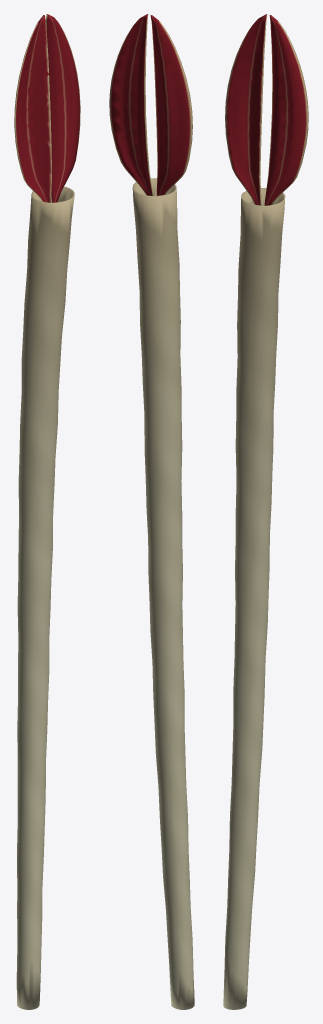
File: NEW689_Tubeworm_LOD2.glb
3 views of the same model, side by side, from view 1: azimuth 30°, elevation 25°; view 2: azimuth 150°, elevation 25°; view 3: azimuth 330°, elevation 25° (orthographic).
Parts seen in each view (by area): view 1: Protective_tube, Branchial_lamella_left, Branchial_lamella_right; view 2: Protective_tube, Branchial_lamella_right, Branchial_lamella_left; view 3: Protective_tube, Branchial_lamella_left, Branchial_lamella_right.
Boxes of the visible parts, x1=… form: Protective_tube: x1=16, y1=186, x2=74, y2=1009; Branchial_lamella_left: x1=14, y1=15, x2=51, y2=202; Branchial_lamella_right: x1=45, y1=14, x2=80, y2=202; Protective_tube: x1=132, y1=178, x2=194, y2=1009; Branchial_lamella_right: x1=109, y1=14, x2=153, y2=195; Branchial_lamella_left: x1=150, y1=15, x2=192, y2=195; Protective_tube: x1=223, y1=188, x2=285, y2=1009; Branchial_lamella_left: x1=225, y1=14, x2=267, y2=205; Branchial_lamella_right: x1=264, y1=15, x2=308, y2=205.
Bounding box in the file's own units: 0.0889 × 1.13 × 0.0493.
3 materials, 3 textured.
